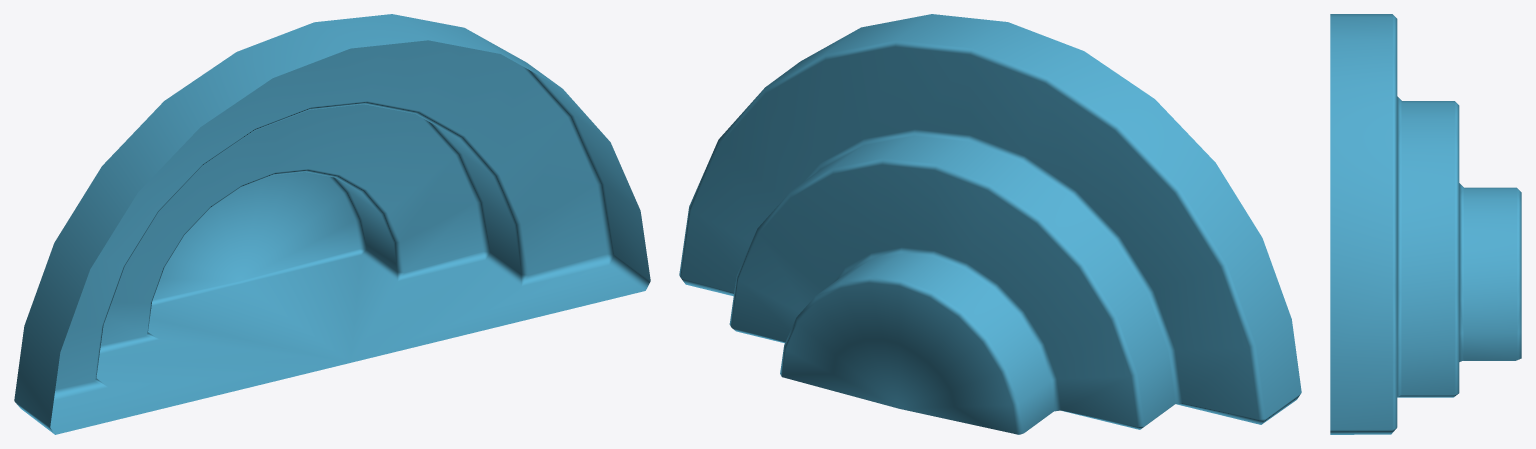
File: Stairs.fbx
3 views of the same model, side by side, from view 1: azimuth 30°, elevation 25°; view 2: azimuth 150°, elevation 25°; view 3: azimuth 270°, elevation 25° (orthographic). The views are drawn at different scales.
Visible parts, largest first — view 1: Stairs; view 2: Stairs; view 3: Stairs.
Part boxes in pixels (box(x1,y1,x2,y2)): Stairs: box(14, 14, 650, 434); Stairs: box(679, 14, 1301, 434); Stairs: box(1330, 14, 1521, 434).
Bounding box in the file's own units: 205 × 103 × 65.79.
